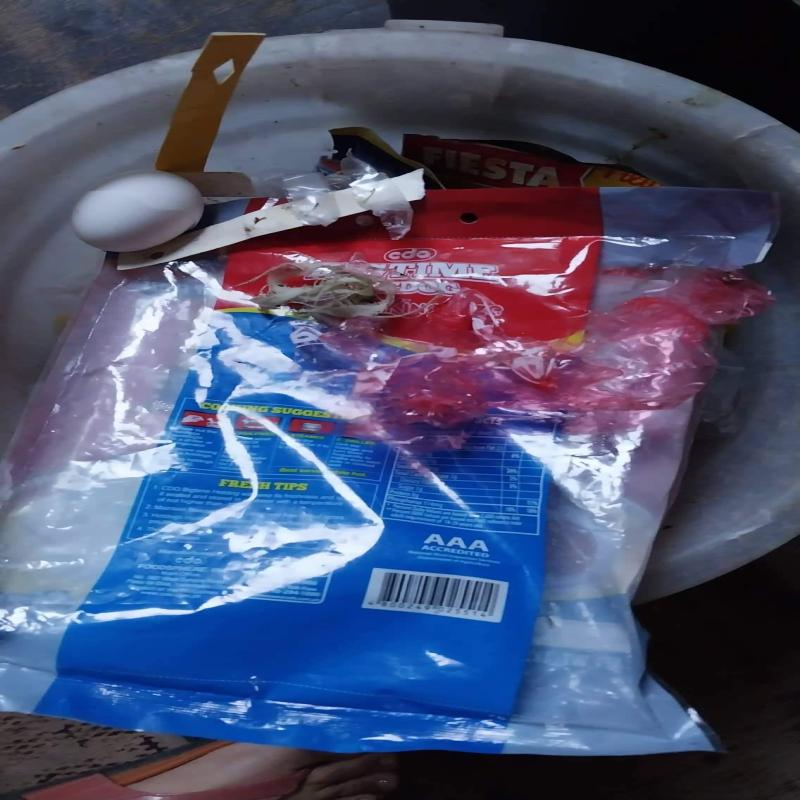egg shell: (72, 173, 206, 253)
food wrapper: (0, 186, 779, 759), (399, 134, 658, 190)
